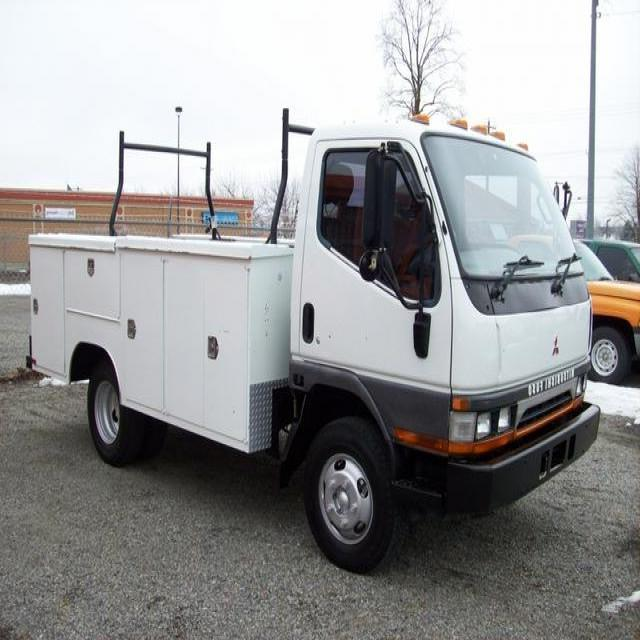truck: (27, 108, 603, 570)
